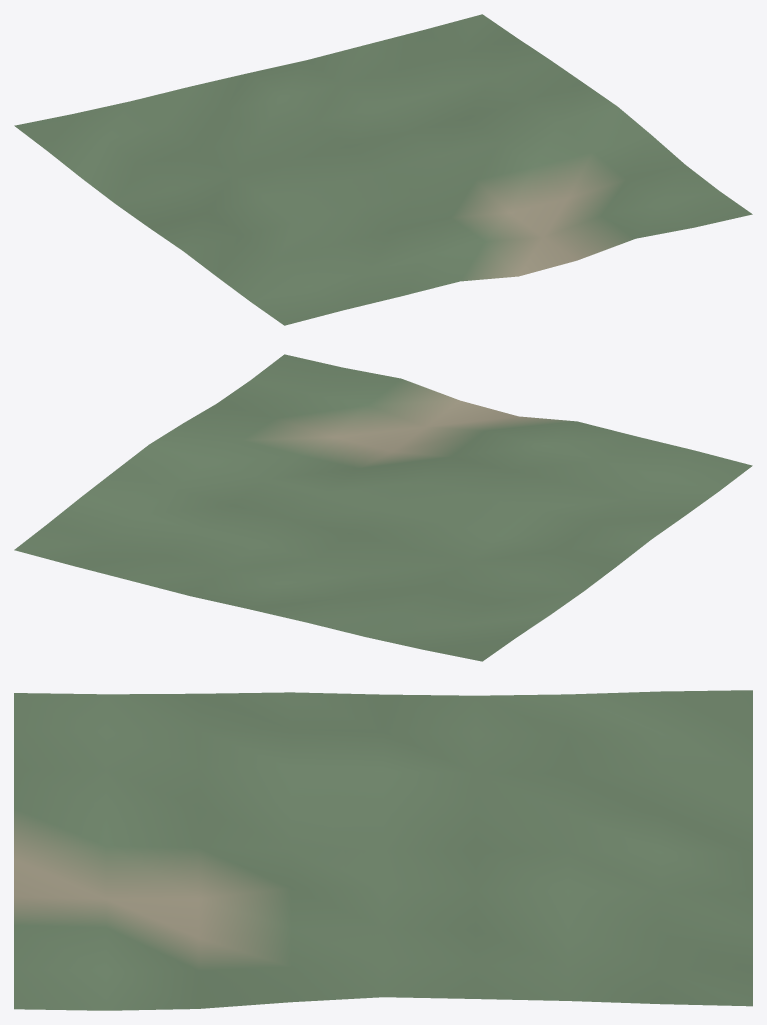
3 renders of one model, top to bottom at view 1: azimuth 30°, elevation 25°; view 2: azimuth 150°, elevation 25°; view 3: azimuth 270°, elevation 25°, orthographic. The views are drawn at different scales.
Visible parts, largest first — view 1: Lo; view 2: Lo; view 3: Lo.
Part boxes in pixels (<box>): Lo: <box>14,14,752,325</box>; Lo: <box>14,354,752,661</box>; Lo: <box>14,690,752,1010</box>.
Bounding box in the file's own units: 256 × 7.2 × 256.
